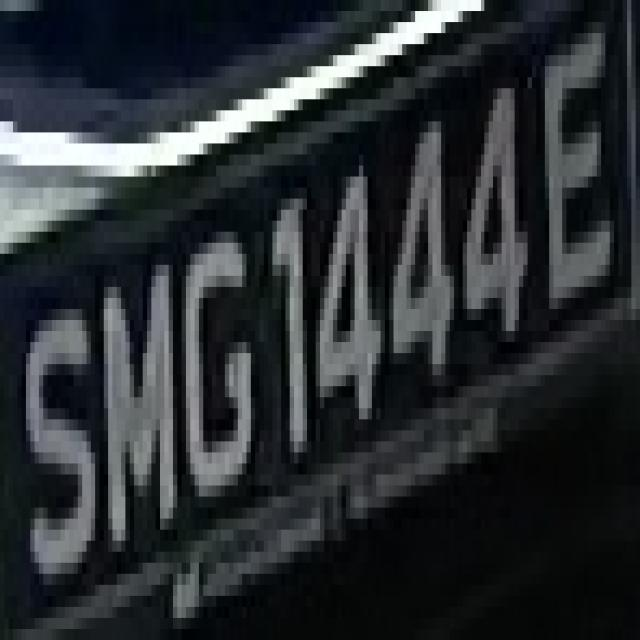1: (260, 187, 316, 518)
4: (372, 132, 463, 452), (445, 78, 532, 408), (298, 154, 385, 474)
E: (532, 11, 618, 364)
G: (164, 198, 251, 530)
M: (100, 243, 182, 574)
S: (18, 276, 100, 640)
